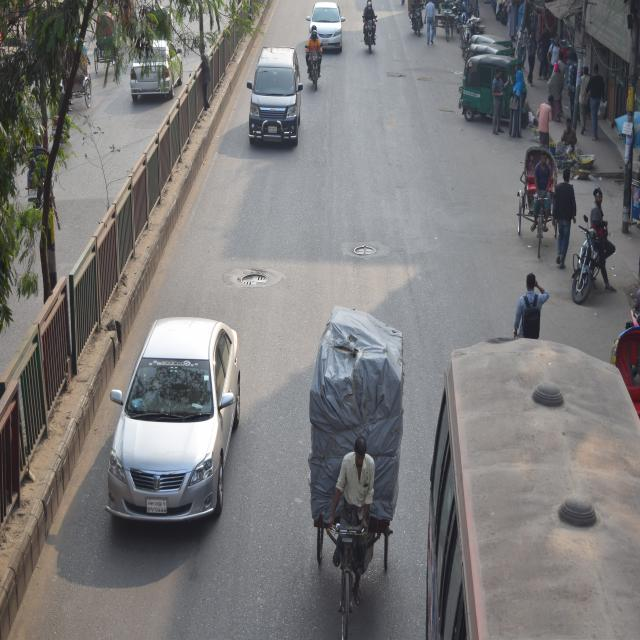bus: (427, 331, 640, 640)
car: (104, 308, 242, 532), (126, 36, 184, 114), (306, 0, 348, 49)
microbus: (246, 42, 296, 152)
motorbike: (569, 217, 610, 315), (299, 33, 325, 95), (360, 2, 380, 68), (407, 0, 429, 42)
